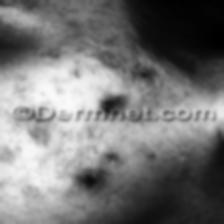Non-Cancerous Skin Condition: (28, 134, 160, 198), (60, 51, 158, 109), (198, 144, 224, 214)
